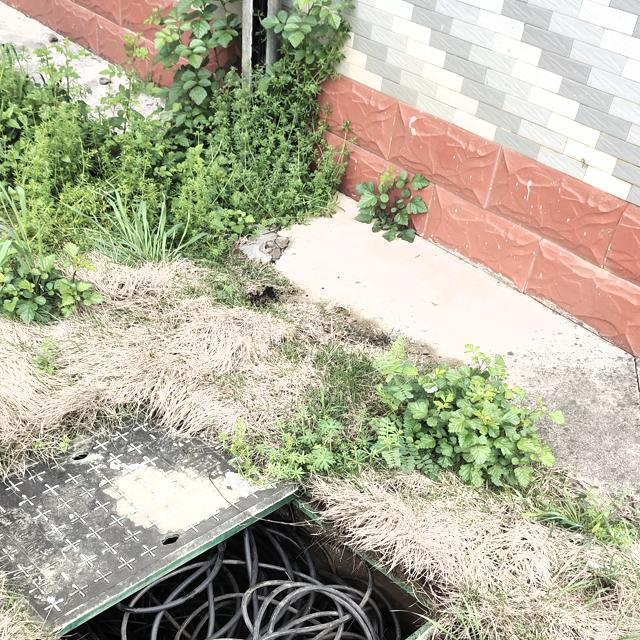lose: (52, 487, 447, 640)
